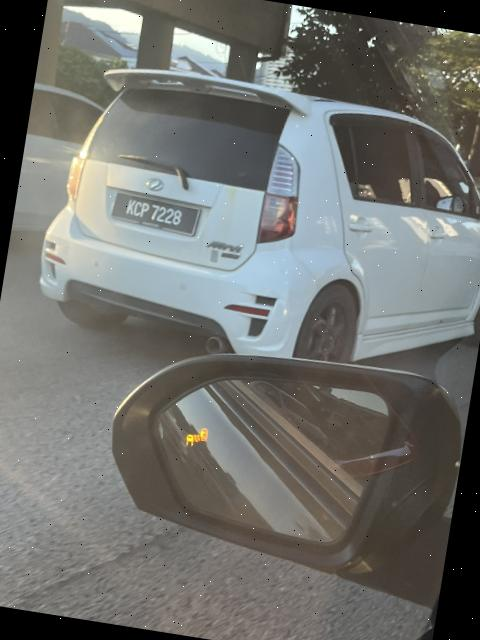License_Plate: (105, 186, 209, 246)
car: (18, 43, 480, 404)
